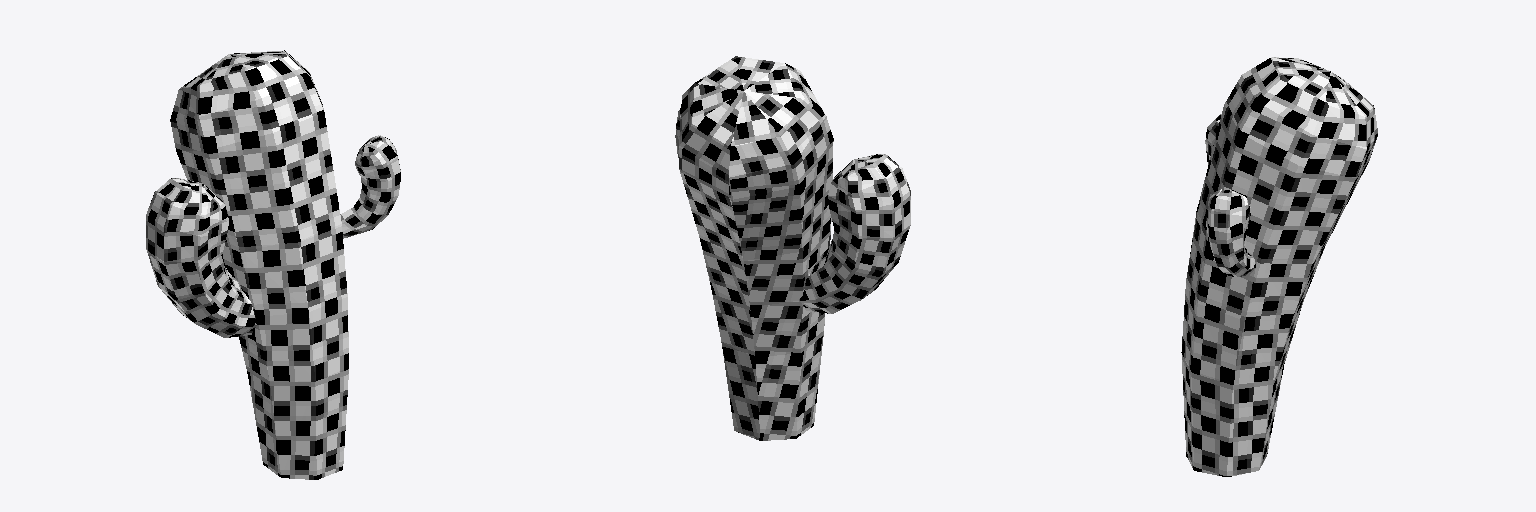
The picture shows the model from 3 angles: view 1: azimuth 30°, elevation 25°; view 2: azimuth 150°, elevation 25°; view 3: azimuth 270°, elevation 25°; orthographic projection.
Parts seen in each view (by area): view 1: Captus_02; view 2: Captus_02; view 3: Captus_02.
Boxes of the visible parts, x1=… form: Captus_02: x1=146, y1=50, x2=400, y2=479; Captus_02: x1=675, y1=56, x2=910, y2=440; Captus_02: x1=1181, y1=57, x2=1377, y2=476.
Bounding box in the file's own units: 15.97 × 25.07 × 11.58.
1 materials, 1 textured.